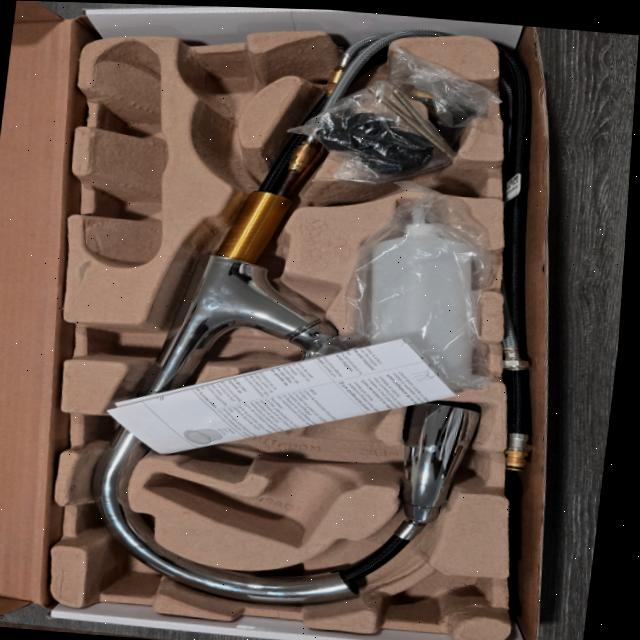1o: (88, 35, 481, 607)
2m: (144, 388, 388, 547)
3o: (369, 199, 476, 396)
4m: (85, 39, 169, 268)
5m: (191, 59, 257, 113)
6: (384, 48, 507, 127)
7: (280, 81, 450, 188)
8: (105, 336, 458, 455)
